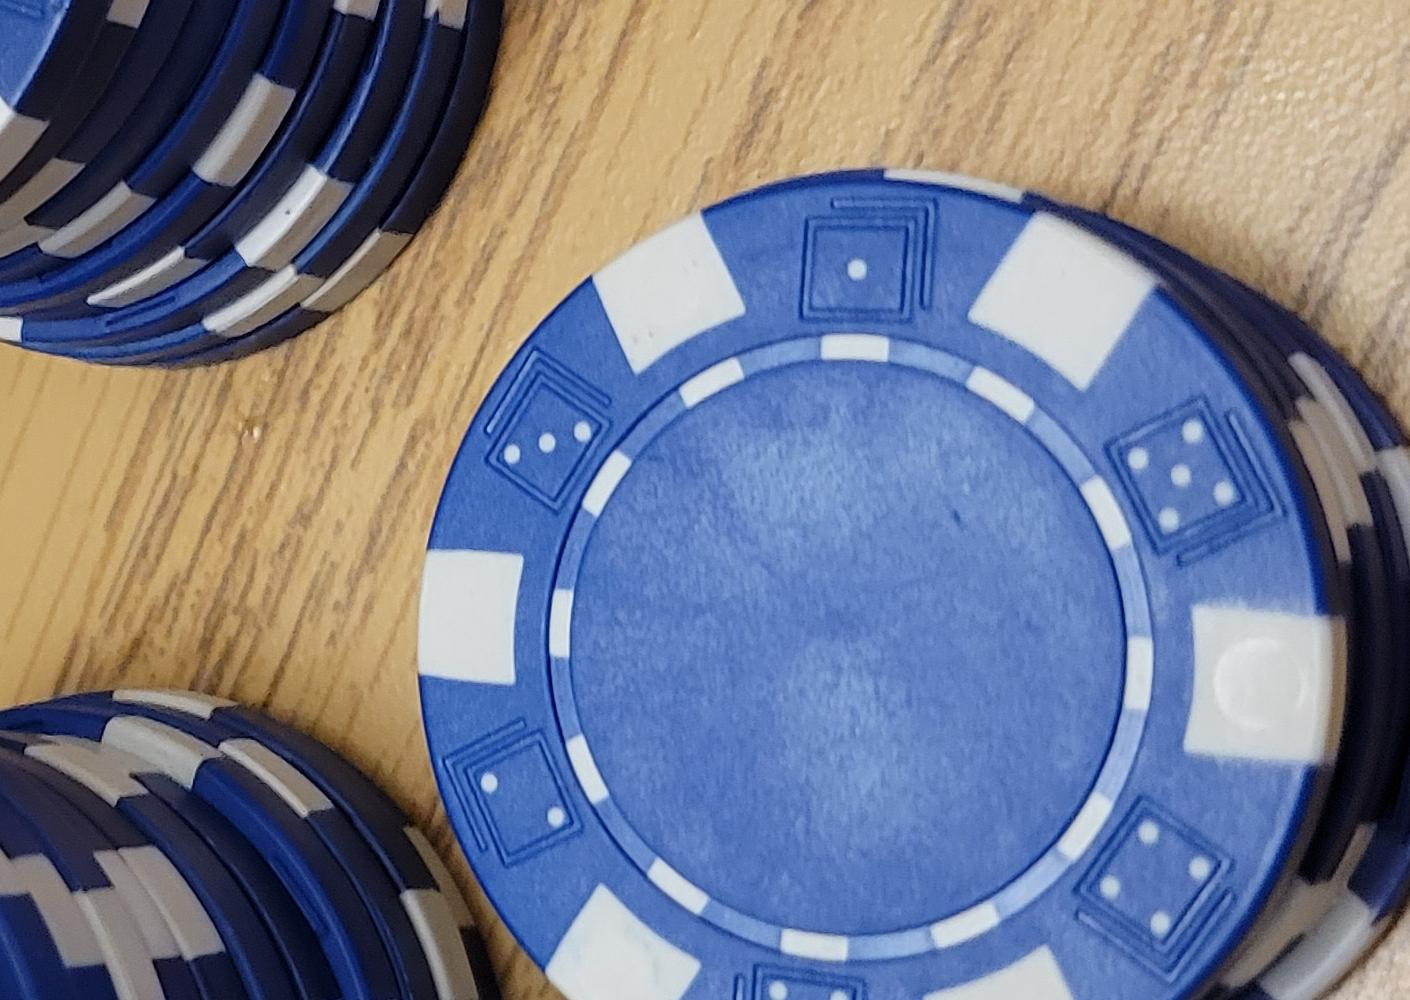Chip: (1, 344, 539, 1000)
